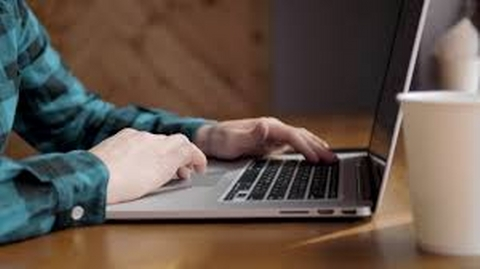pc: (94, 1, 429, 225)
tempat minum: (397, 91, 480, 253)
